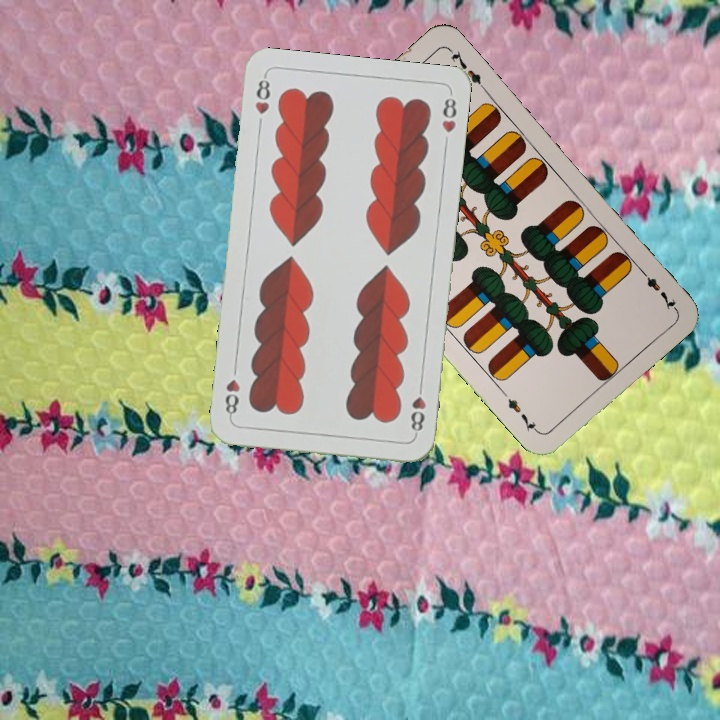E7: (635, 264, 679, 313)
H8: (406, 379, 428, 438), (251, 72, 273, 117)
